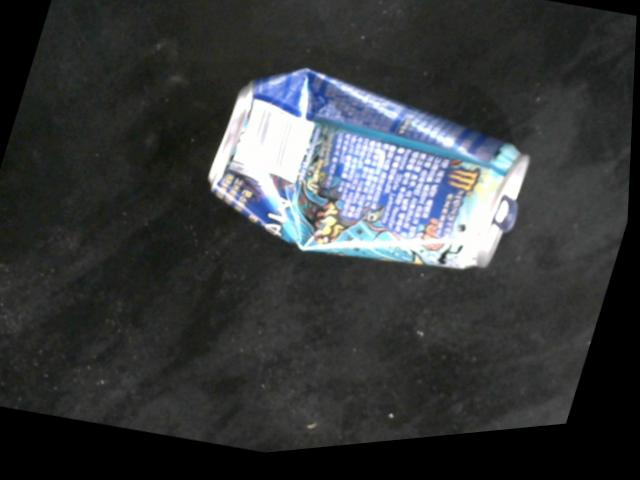can: (205, 68, 540, 279)
